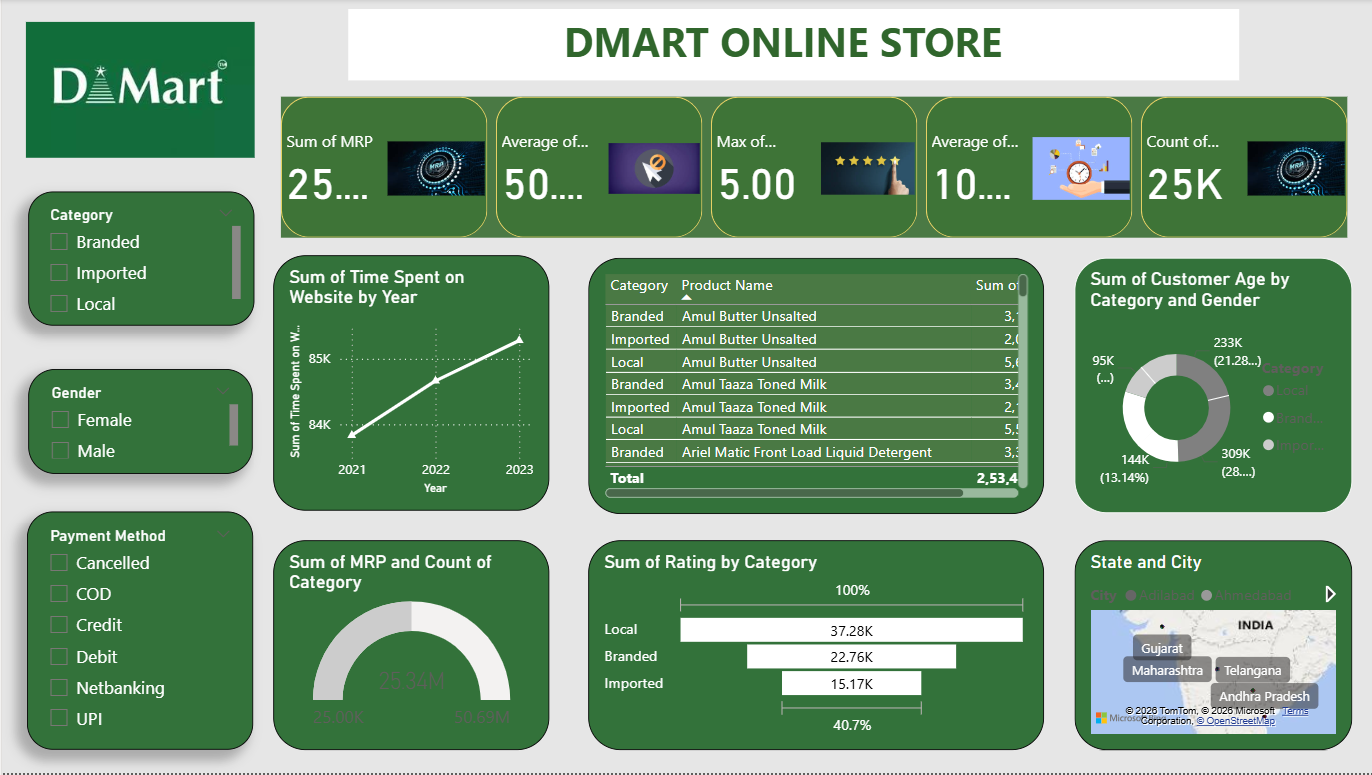

This screenshot's page, from the dashboard's own definition file:
{"tool":"powerbi","page":{"name":"Page 1","canvas":[1280,720],"ordinal":0},"visuals":[{"type":"textbox","box":[321.6,9.8,829.1,66],"z":0},{"type":"image","box":[17.8,9.6,222.3,150.9],"z":1000},{"type":"tableEx","fields":{"Values":["final test1.Category","final test1.Product Name","Sum(final test1.MRP)"]},"box":[544.8,240.1,424,238.8],"z":2000},{"type":"donutChart","fields":{"Category":["final test1.Category"],"Series":["final test1.Gender"],"Y":["Sum(final test1.Customer Age)"]},"box":[997.6,240.3,258.5,237.3],"z":3000},{"type":"lineChart","fields":{"Y":["Sum(final test1.Time Spent on Website)"],"Category":["final test1.Year"]},"box":[252.5,238.8,256.6,237.4],"z":4000},{"type":"slicer","fields":{"Values":["final test1.Category"]},"box":[24.8,178.8,210.4,125.1],"z":5000},{"type":"slicer","fields":{"Values":["final test1.Gender"]},"box":[24.8,343.8,209,97.6],"z":6000},{"type":"slicer","fields":{"Values":["final test1.Payment Method"]},"box":[23.4,477.2,210.4,221.4],"z":7000},{"type":"gauge","fields":{"MinValue":["CountNonNull(final test1.Category)"],"Y":["Sum(final test1.MRP)"]},"box":[252.4,503.4,257,195],"z":8000},{"type":"funnel","fields":{"Category":["final test1.Category"],"Y":["Sum(final test1.Rating)"]},"box":[545,503,424,195],"z":9000},{"type":"map","fields":{"Category":["final test1.State"],"Series":["final test1.City"]},"box":[998,503,258,195],"z":10000},{"type":"cardVisual","fields":{"Data":["Sum(final test1.MRP)","Avg(final test1.No of Clicks)","Max(final test1.Rating)","Avg(final test1.Time Spent on Website)","Count(final test1.Order ID)"]},"box":[254.3,85.6,1003.9,141.8],"z":11000}]}

Visuals, with their boxes in screenshot pixels (x1, y1, x2, y2), scaled from the page's 1280x720 canvas onto the 1372x775 screenshot:
textbox: x1=345 y1=11 x2=1233 y2=82
image: x1=19 y1=10 x2=257 y2=173
tableEx - final test1.Category x final test1.Product Name: x1=584 y1=258 x2=1038 y2=515
donutChart - final test1.Category x final test1.Gender: x1=1069 y1=259 x2=1346 y2=514
lineChart - Sum(final test1.Time Spent on Website) x final test1.Year: x1=271 y1=257 x2=546 y2=513
slicer - final test1.Category: x1=27 y1=192 x2=252 y2=327
slicer - final test1.Gender: x1=27 y1=370 x2=251 y2=475
slicer - final test1.Payment Method: x1=25 y1=514 x2=251 y2=752
gauge - CountNonNull(final test1.Category) x Sum(final test1.MRP): x1=271 y1=542 x2=546 y2=752
funnel - final test1.Category x Sum(final test1.Rating): x1=584 y1=541 x2=1039 y2=751
map - final test1.State x final test1.City: x1=1070 y1=541 x2=1346 y2=751
cardVisual - Sum(final test1.MRP) x Avg(final test1.No of Clicks): x1=273 y1=92 x2=1349 y2=245
